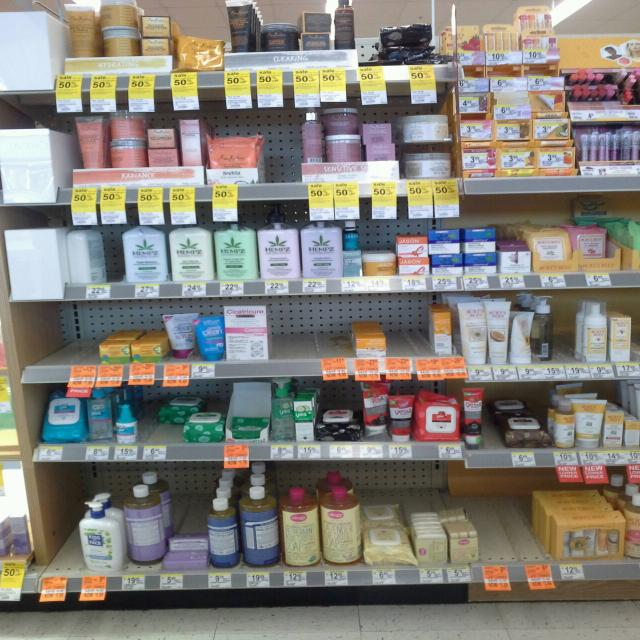unorganised: (64, 220, 112, 285), (363, 384, 390, 440), (510, 308, 535, 367), (571, 226, 609, 262), (159, 398, 195, 424)
